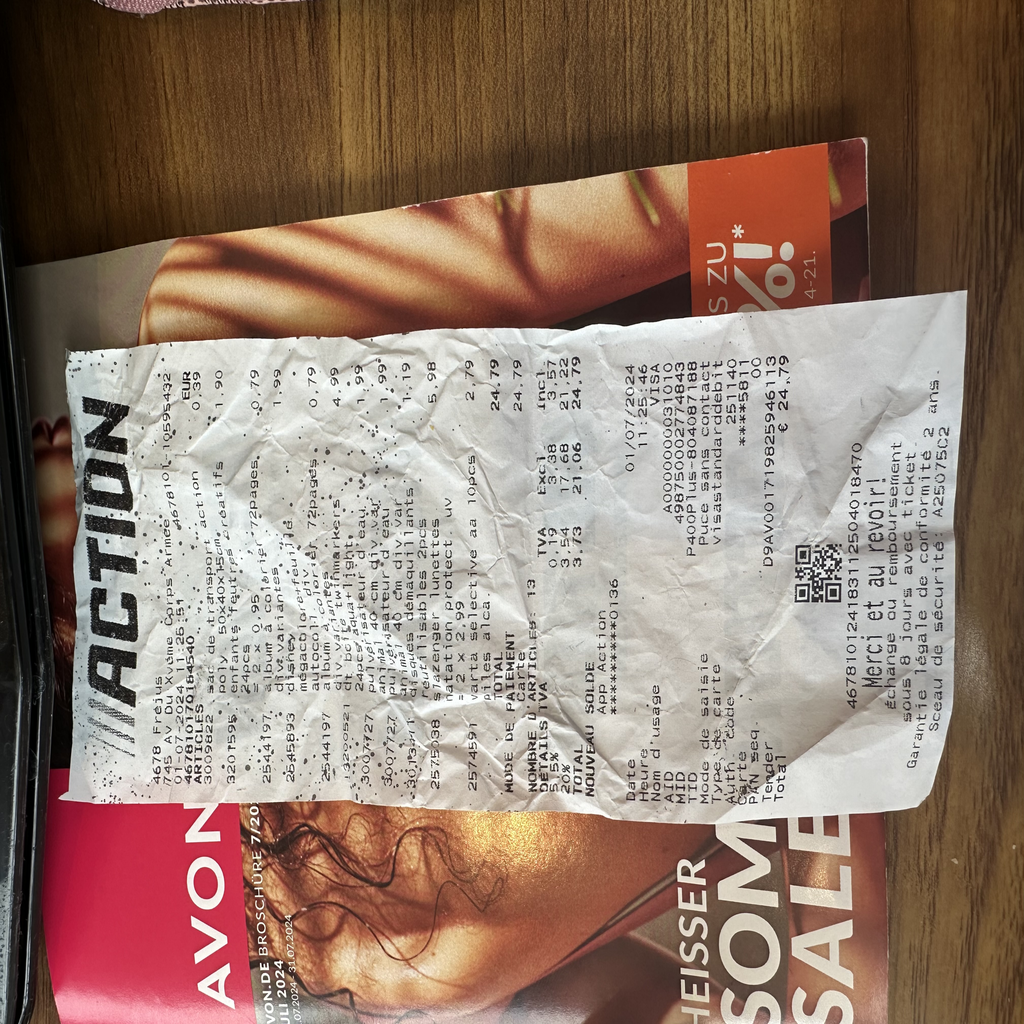recipt: (63, 290, 967, 820)
